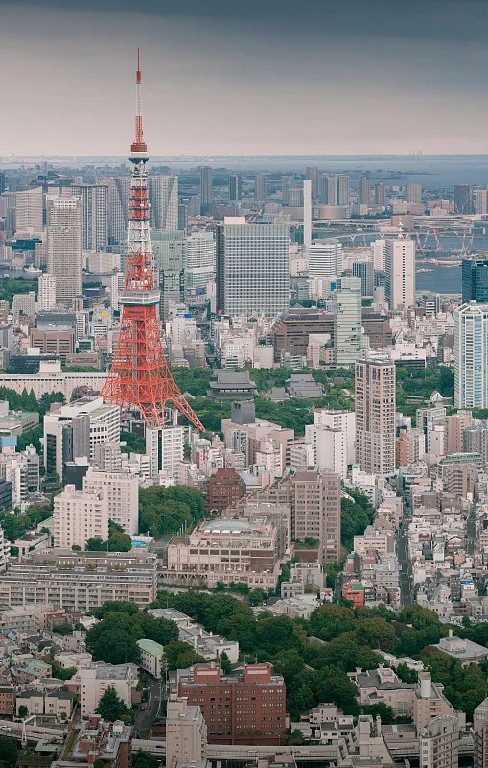Tokyo: (91, 43, 208, 439)
